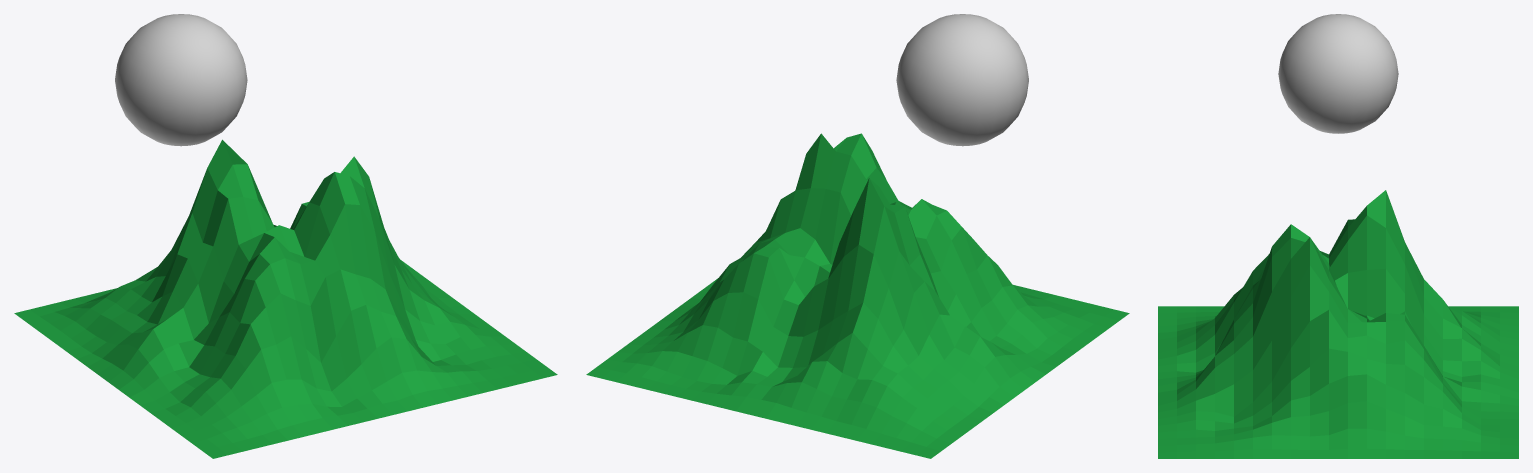
The model's file is scena-animazione-camera.dae.
3 views of the same model, side by side, from view 1: azimuth 30°, elevation 25°; view 2: azimuth 150°, elevation 25°; view 3: azimuth 270°, elevation 25° (orthographic). The views are drawn at different scales.
Visible parts, largest first — view 1: Landscape, Sphere; view 2: Landscape, Sphere; view 3: Landscape, Sphere.
Boxes of the visible parts, box(x1,y1,x2,y2) form: Landscape: box(14, 139, 557, 458); Sphere: box(115, 14, 247, 146); Landscape: box(586, 133, 1129, 458); Sphere: box(896, 14, 1028, 146); Landscape: box(1158, 190, 1518, 458); Sphere: box(1278, 14, 1398, 133).
Bounding box in the file's own units: 600 × 581 × 600.
